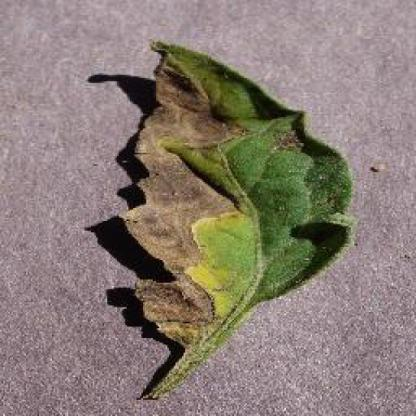Tomato_Blight: (119, 40, 353, 345)
